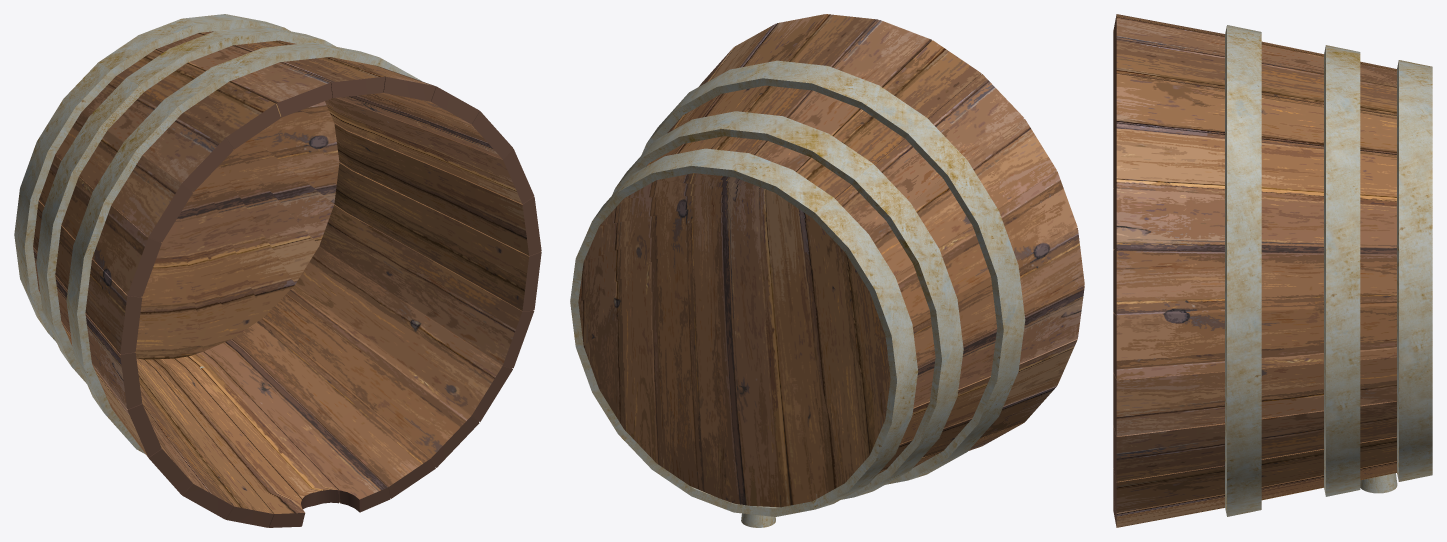
The model's file is stomping barrel.fbx.
3 views of the same model, side by side, from view 1: azimuth 30°, elevation 25°; view 2: azimuth 150°, elevation 25°; view 3: azimuth 270°, elevation 25° (orthographic). The views are drawn at different scales.
Visible parts, largest first — view 1: barrel.002, barrel detail.001; view 2: barrel.002, barrel detail.001; view 3: barrel.002, barrel detail.001, Cylinder.
Boxes of the visible parts, x1,y1,x2,y2 form: barrel.002: (33, 31, 541, 527); barrel detail.001: (14, 14, 421, 454); barrel.002: (578, 14, 1084, 507); barrel detail.001: (570, 60, 1025, 516); barrel.002: (1113, 14, 1396, 527); barrel detail.001: (1225, 25, 1432, 516); Cylinder: (1360, 473, 1397, 493).
Size of the model in its own units: 224 by 222 by 139.
3 materials, 2 textured.
